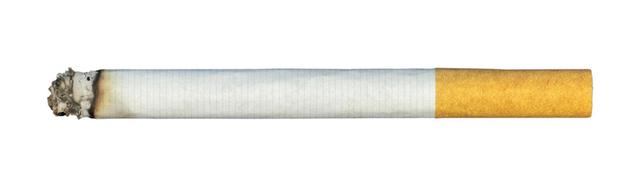Cigarette: (47, 66, 593, 119)
